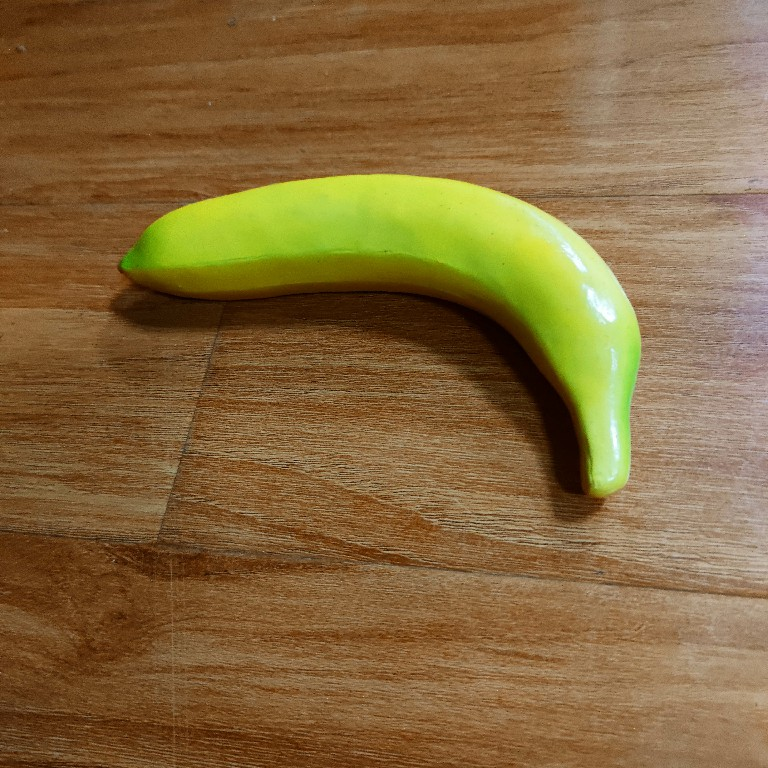fruit_banana: (111, 168, 648, 503)
